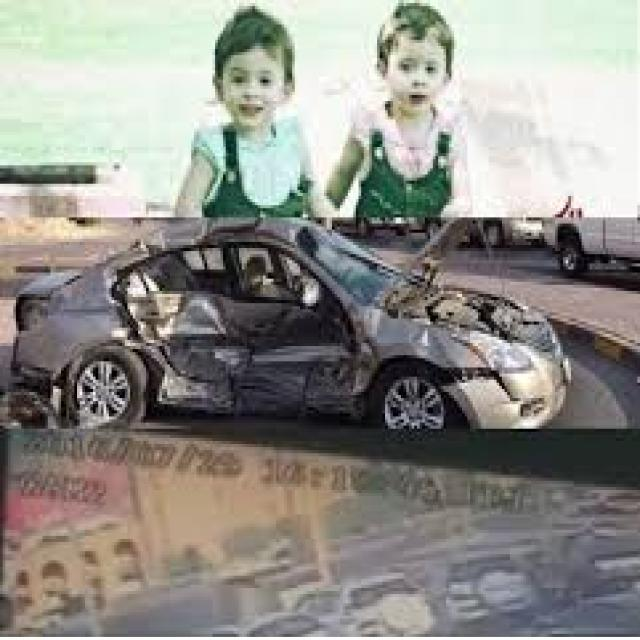accident: (5, 214, 603, 431)
